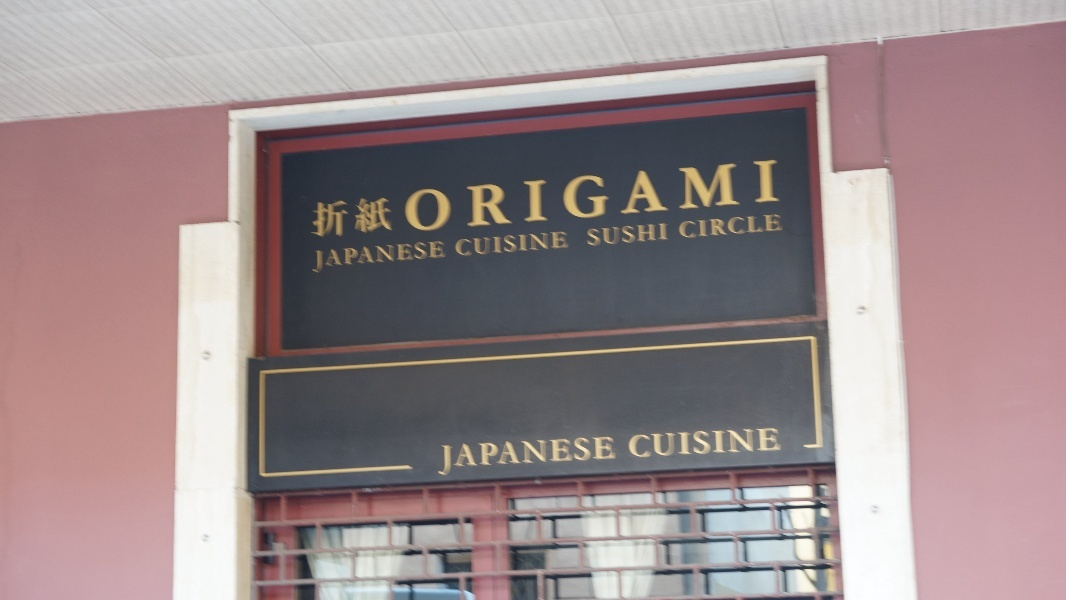text: (417, 157, 432, 236), (433, 157, 448, 236), (449, 157, 464, 236), (465, 157, 480, 236), (481, 157, 496, 236), (497, 157, 512, 236), (513, 157, 528, 236), (529, 157, 544, 236), (545, 157, 560, 236), (561, 157, 576, 236), (577, 157, 592, 236), (593, 157, 608, 236), (609, 157, 624, 236), (625, 157, 640, 236), (641, 157, 656, 236), (657, 157, 672, 236), (673, 157, 688, 236), (689, 157, 704, 236), (705, 157, 720, 236), (721, 157, 736, 236), (737, 157, 752, 236), (753, 157, 768, 236), (402, 157, 416, 236), (769, 157, 781, 236), (449, 437, 464, 476), (465, 437, 480, 476), (481, 437, 496, 476), (497, 437, 512, 476), (513, 437, 528, 476), (529, 437, 544, 476), (545, 437, 560, 476), (561, 437, 576, 476), (577, 437, 592, 476), (593, 437, 608, 476), (321, 241, 336, 273), (337, 241, 352, 273), (353, 241, 368, 273), (369, 241, 384, 273), (385, 241, 400, 273), (401, 241, 416, 273), (417, 241, 432, 273), (641, 428, 656, 459), (657, 428, 672, 459), (673, 428, 688, 459), (689, 428, 704, 459), (705, 428, 720, 459), (721, 428, 736, 459), (737, 428, 752, 459), (753, 428, 768, 459), (433, 241, 447, 273), (769, 428, 782, 459), (465, 232, 480, 256), (481, 232, 496, 256), (497, 232, 512, 256), (513, 232, 528, 256), (529, 232, 544, 256), (545, 232, 560, 256), (689, 214, 704, 238), (705, 214, 720, 238), (721, 214, 736, 238), (737, 214, 752, 238), (753, 214, 768, 238), (593, 224, 608, 247), (609, 224, 624, 247), (625, 224, 640, 247), (641, 224, 656, 247), (629, 428, 640, 459), (769, 214, 782, 238), (440, 437, 448, 476), (609, 437, 617, 476), (657, 224, 668, 247), (678, 214, 688, 238), (455, 232, 464, 256), (561, 232, 570, 256), (316, 241, 320, 273), (588, 224, 592, 247)
